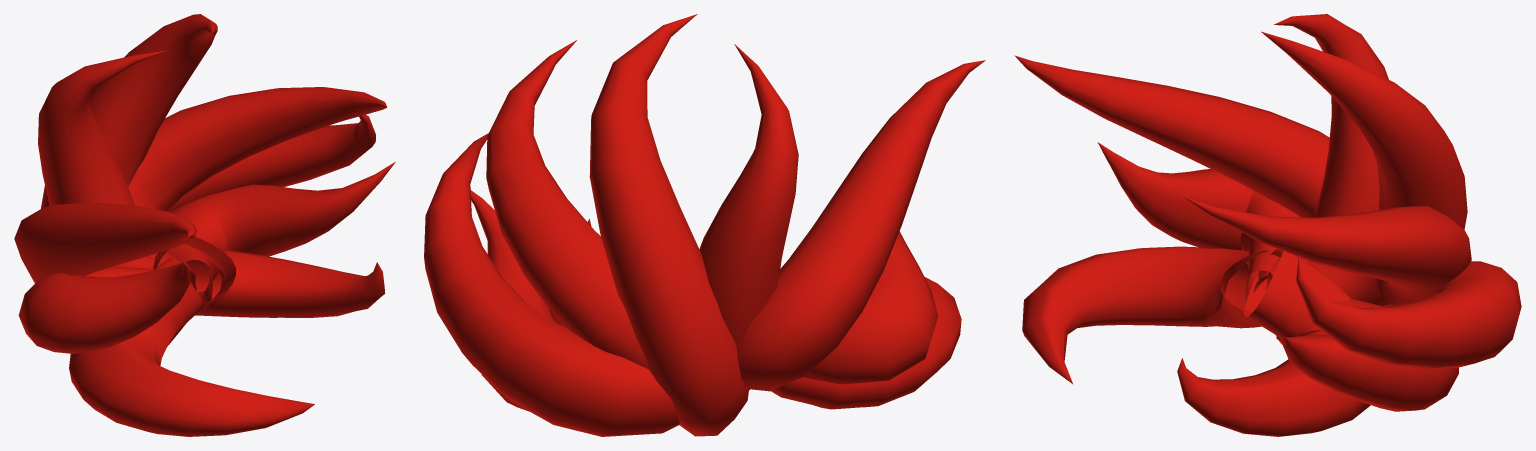
The picture shows the model from 3 angles, left to right: view 1: azimuth 30°, elevation 25°; view 2: azimuth 150°, elevation 25°; view 3: azimuth 270°, elevation 25°; orthographic projection. The views are drawn at different scales.
Parts seen in each view (by area): view 1: tail_001; view 2: tail_001; view 3: tail_001.
Part boxes in pixels (box(x1,y1,x2,y2)): tail_001: box(14, 14, 395, 436); tail_001: box(424, 14, 985, 436); tail_001: box(1014, 14, 1521, 436).
Bounding box in the file's own units: 208 × 215 × 166.
